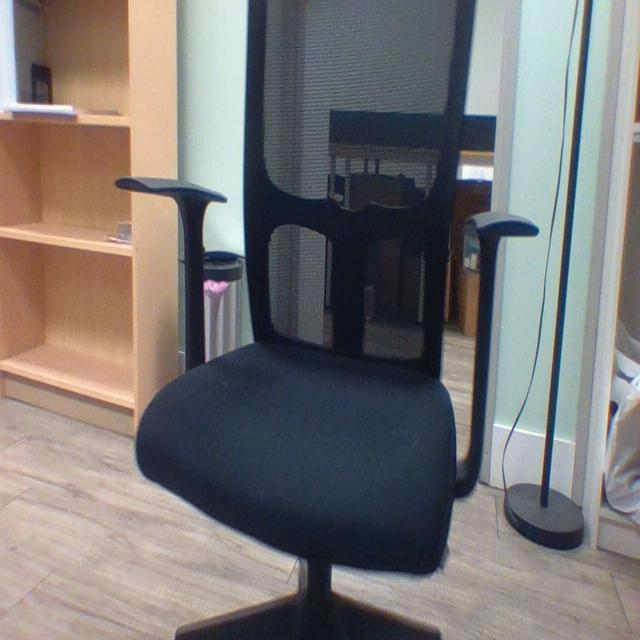chair: (137, 5, 543, 640)
